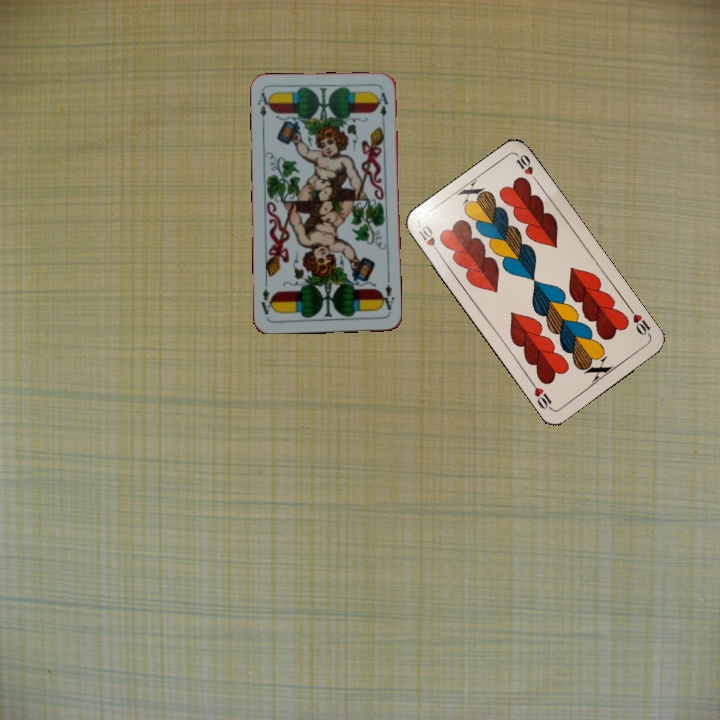EA: (253, 88, 273, 129), (377, 280, 397, 316)
H10: (414, 221, 444, 258), (625, 304, 653, 339)
